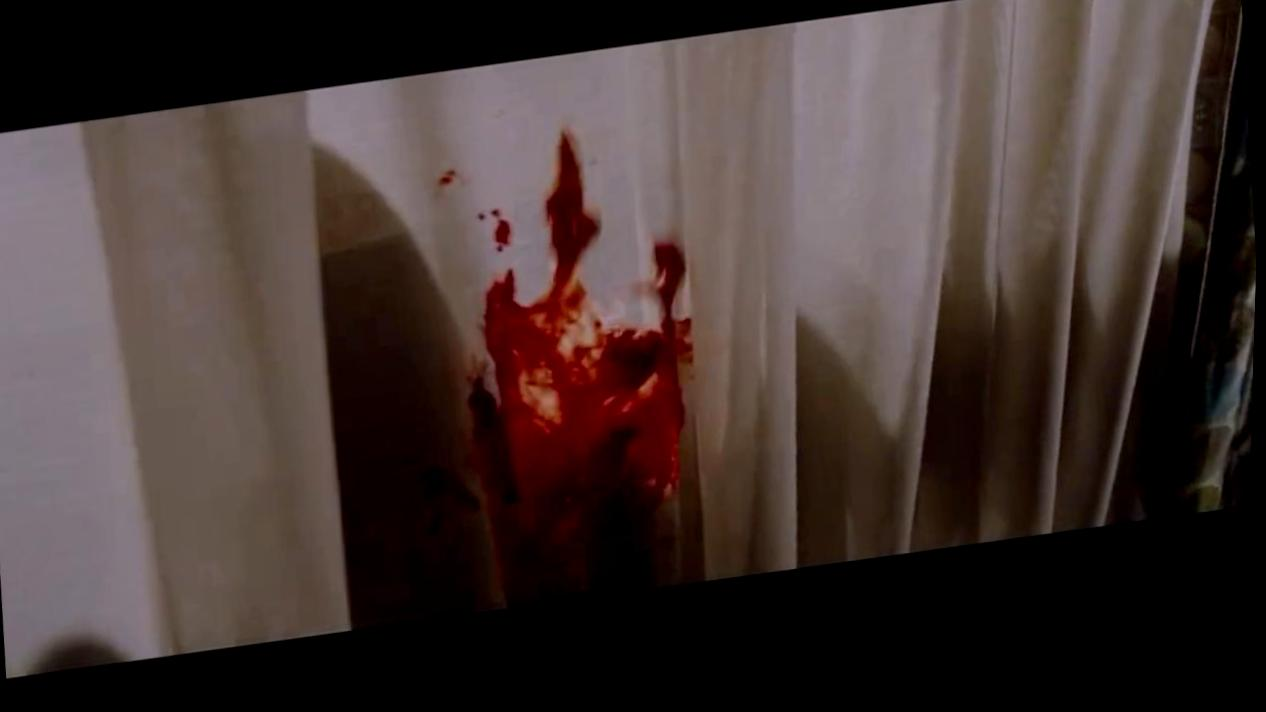Fire: (467, 134, 690, 611), (432, 172, 460, 197)
